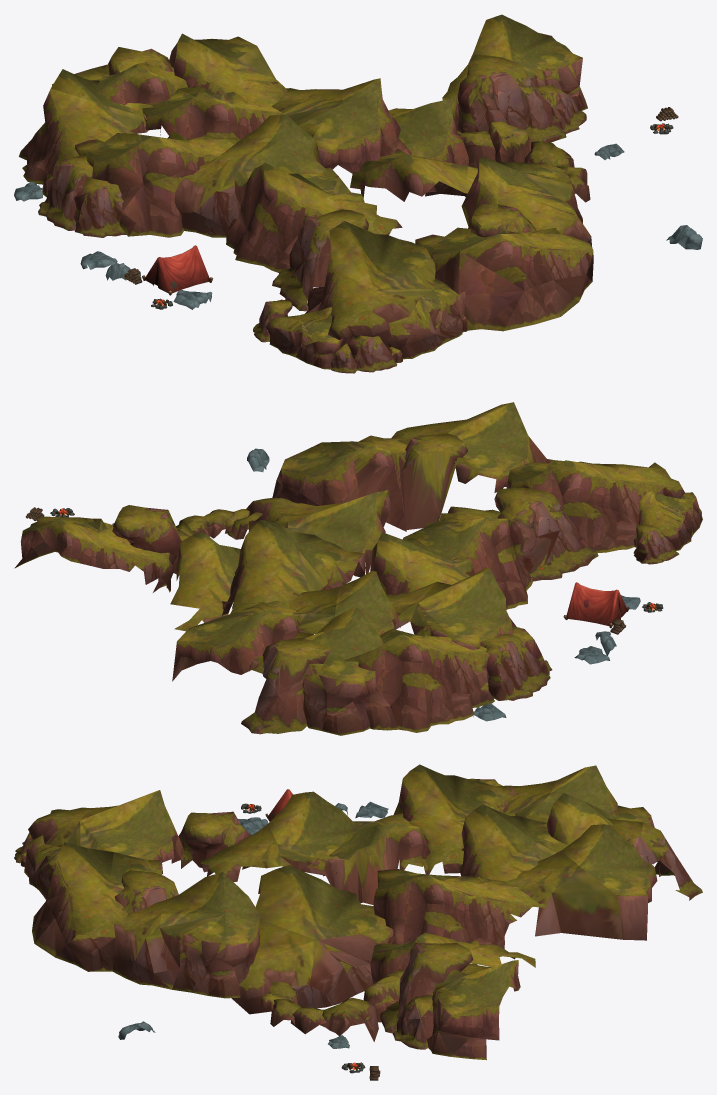
File: yanshi21_1.FBX
3 renders of one model, top to bottom at view 1: azimuth 30°, elevation 25°; view 2: azimuth 150°, elevation 25°; view 3: azimuth 270°, elevation 25°, orthographic. The views are drawn at different scales.
Parts seen in each view (by area): view 1: yanshi21_1; view 2: yanshi21_1; view 3: yanshi21_1.
Boxes of the visible parts, x1,y1,x2,y2 form: yanshi21_1: (14, 14, 702, 373); yanshi21_1: (14, 402, 702, 735); yanshi21_1: (14, 764, 702, 1080).
Size of the model in its own units: 7589 by 1340 by 7890.
